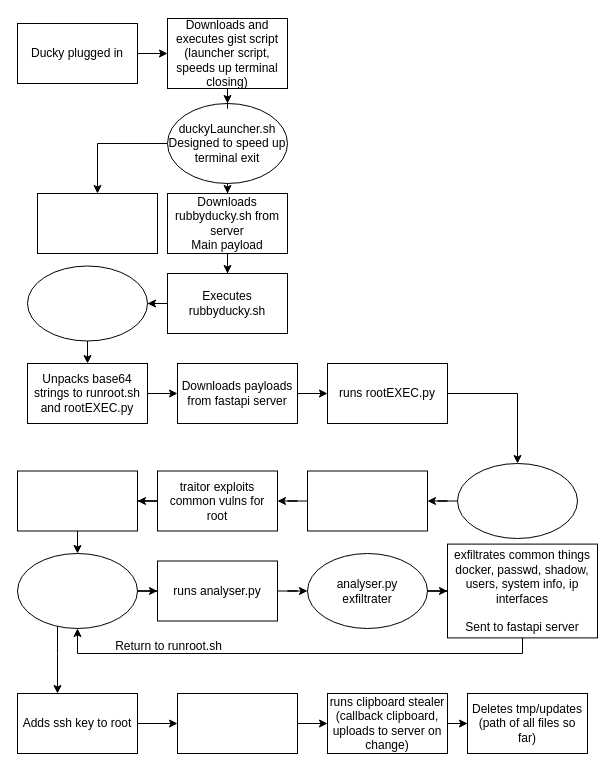
Image size: 615x771. Some labels were removed from this diagram. The box of each missing label's shape, as (x1, y1, x2, y2) in pixels:
Adds cronjob for reverse shell as backup: (176, 692, 298, 754)
Kills terminal but allows script to run: (36, 192, 158, 254)
rootEXEC.py traitor root handler: (456, 462, 578, 538)
rubbyDucky.sh PayloadDeployer: (26, 265, 148, 341)
run runroot.sh: (16, 470, 138, 531)
runroot.sh payload 1: (16, 552, 138, 628)
runs traitor: (306, 470, 428, 531)
